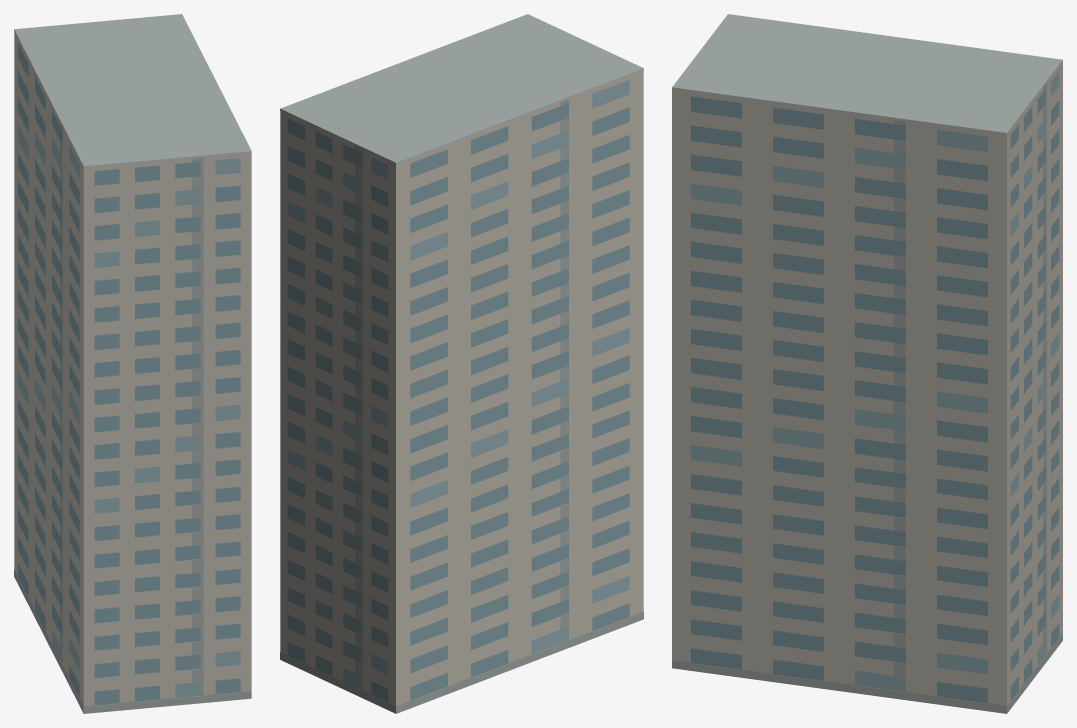
File: residential-4f82a4b6-693c-46b1-bdeb-2a79ef04402d.glb
3 views of the same model, side by side, from view 1: azimuth 30°, elevation 25°; view 2: azimuth 150°, elevation 25°; view 3: azimuth 270°, elevation 25° (orthographic). The views are drawn at different scales.
Visible parts, largest first — view 1: residential-4f82a4b6-693c-46b1-bdeb-2a79ef04402d.tmp; view 2: residential-4f82a4b6-693c-46b1-bdeb-2a79ef04402d.tmp; view 3: residential-4f82a4b6-693c-46b1-bdeb-2a79ef04402d.tmp.
Boxes of the visible parts, box(x1,y1,x2,y2) form: residential-4f82a4b6-693c-46b1-bdeb-2a79ef04402d.tmp: box(14, 14, 251, 713); residential-4f82a4b6-693c-46b1-bdeb-2a79ef04402d.tmp: box(280, 14, 643, 713); residential-4f82a4b6-693c-46b1-bdeb-2a79ef04402d.tmp: box(672, 14, 1062, 713).
Size of the model in its own units: 27.24 by 62 by 37.82.
